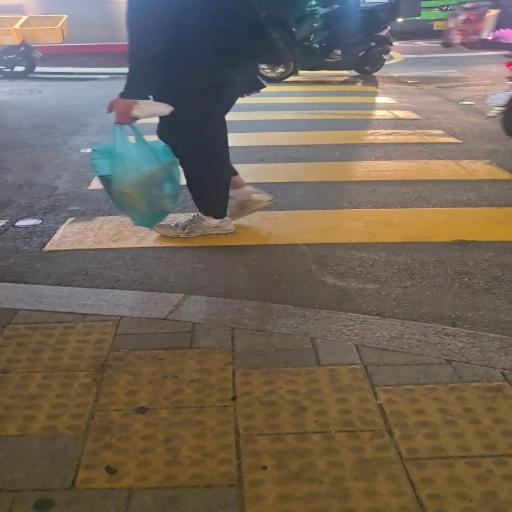yellow-crosswalk: (27, 66, 512, 268)
